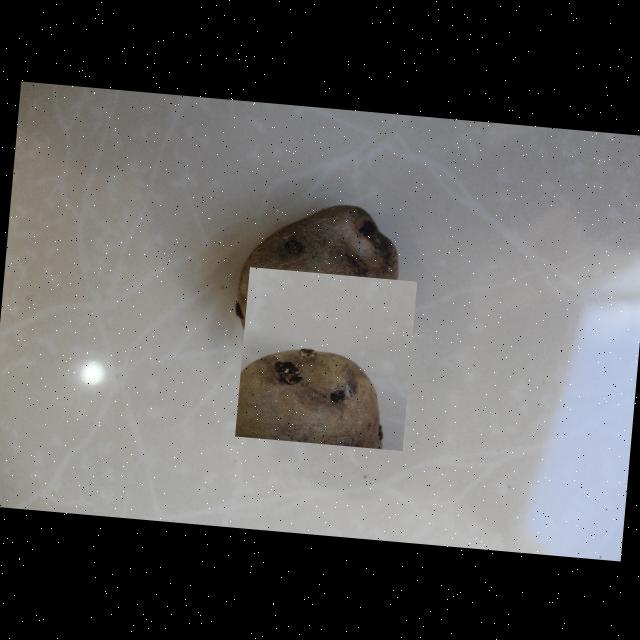Diseased-fungal potato: (234, 266, 416, 450)
